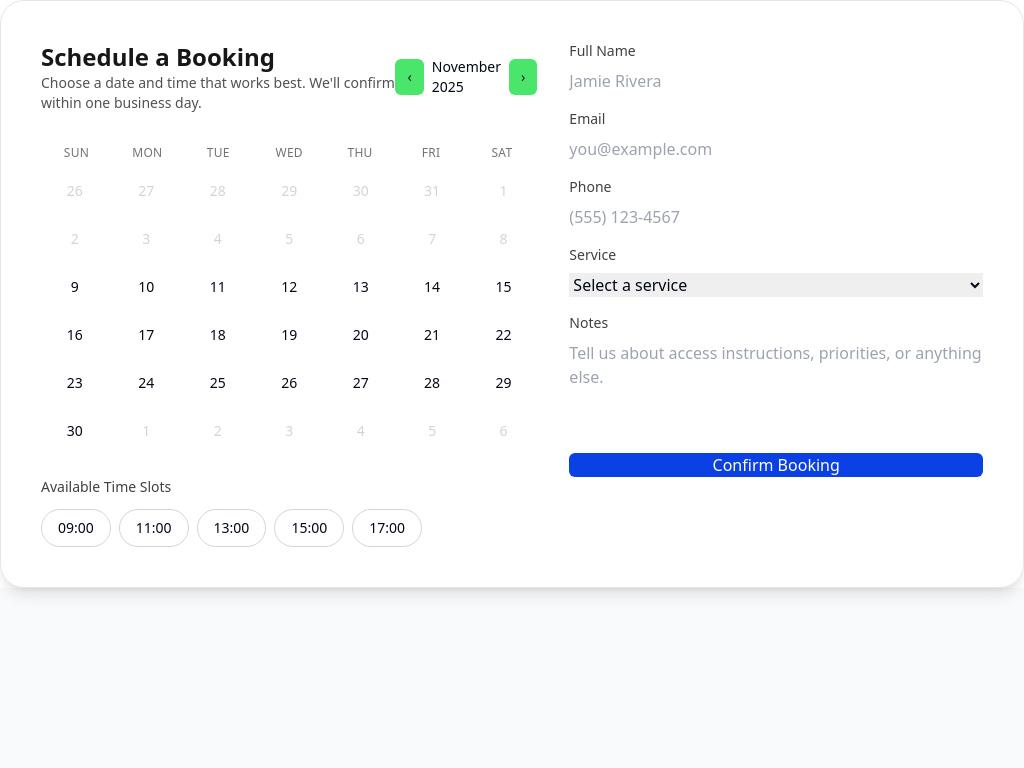
Test: BookingScheduler › submits a booking and shows confirmation
Click the button "9" at (75, 287), box [41,265,108,309]
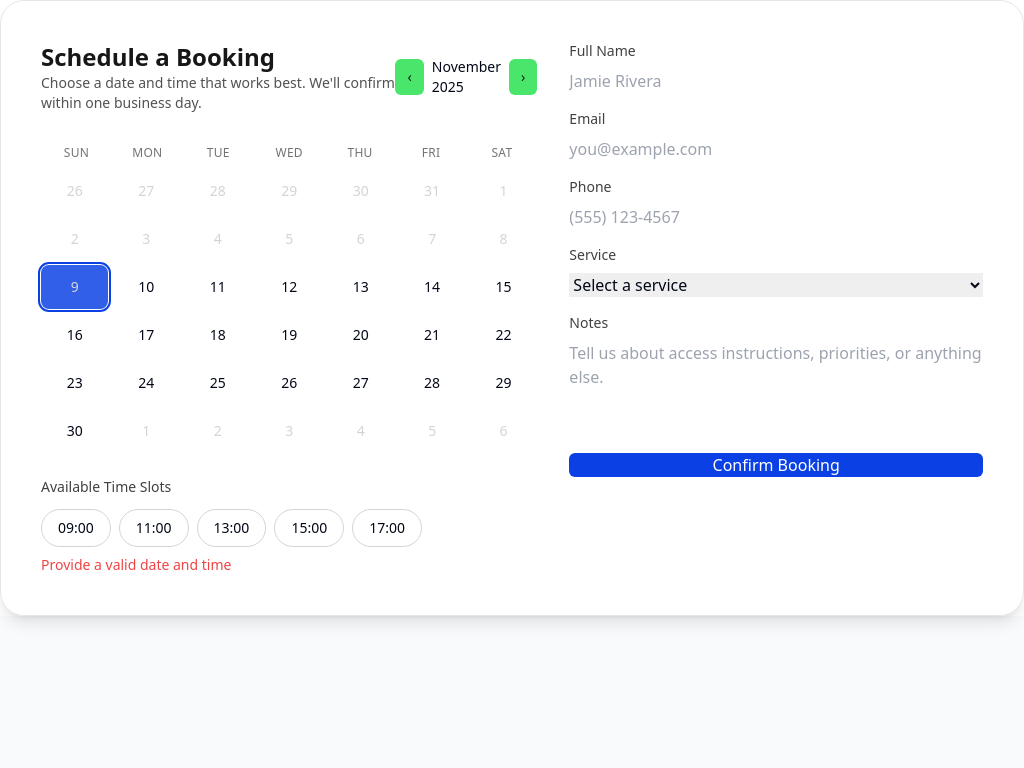
Click the button "09:00" at (76, 528), box [41,509,111,547]
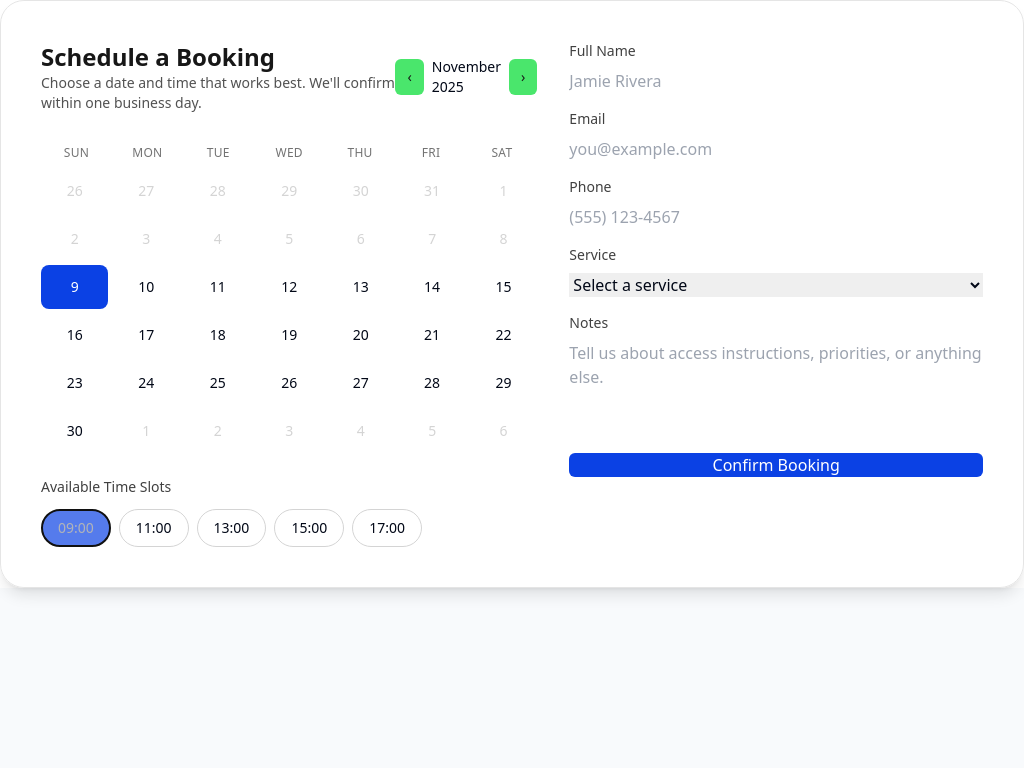
Type "Alex Doe" into the field with placeholder "Jamie Rivera" at (776, 81), box [569,69,983,93]
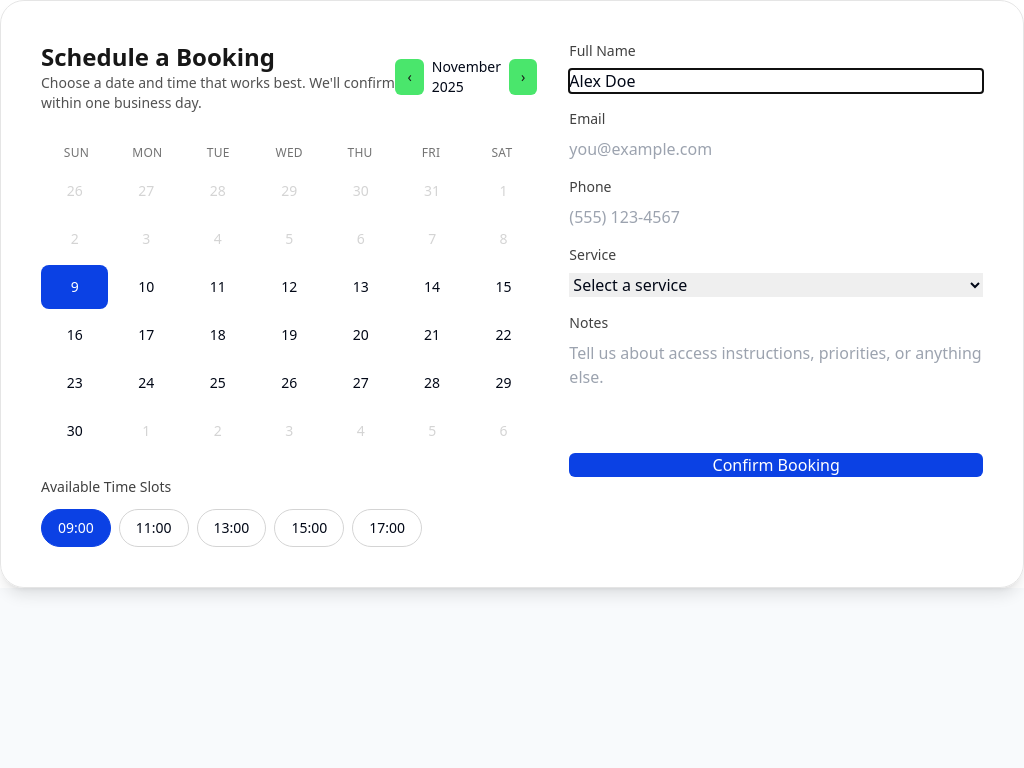
Type "alex@example.com" into the field with placeholder "you@example.com" at (776, 149), box [569,137,983,161]
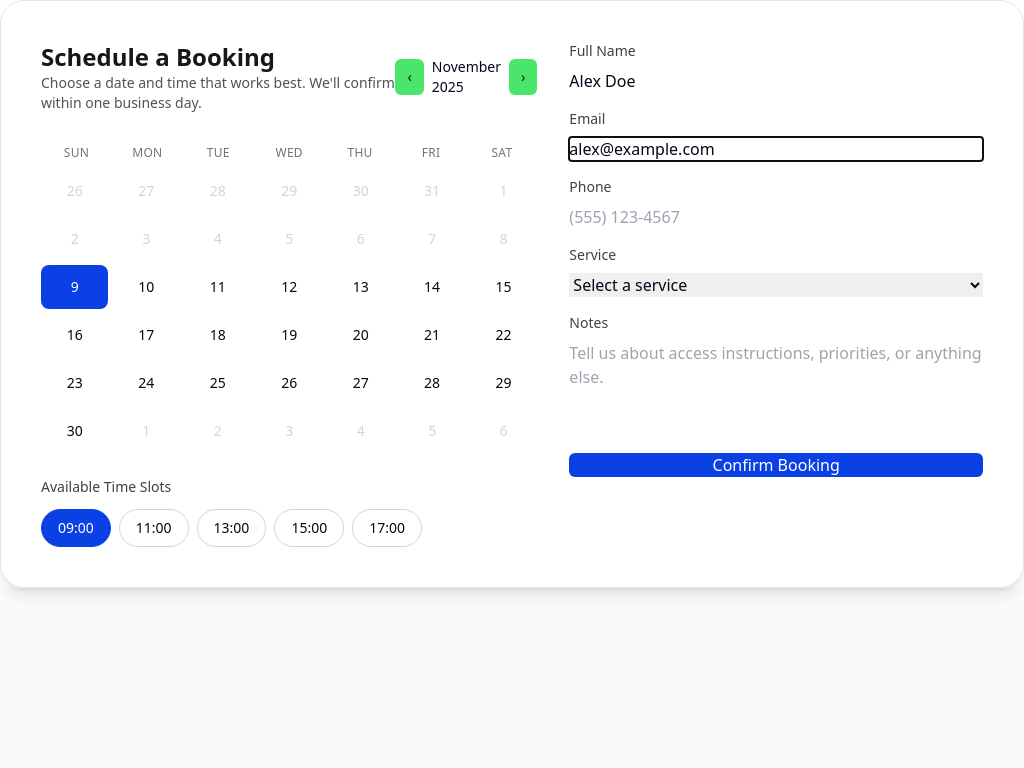
Select "Locksmithing" in the dropdown at (776, 285), box [569,273,983,297]
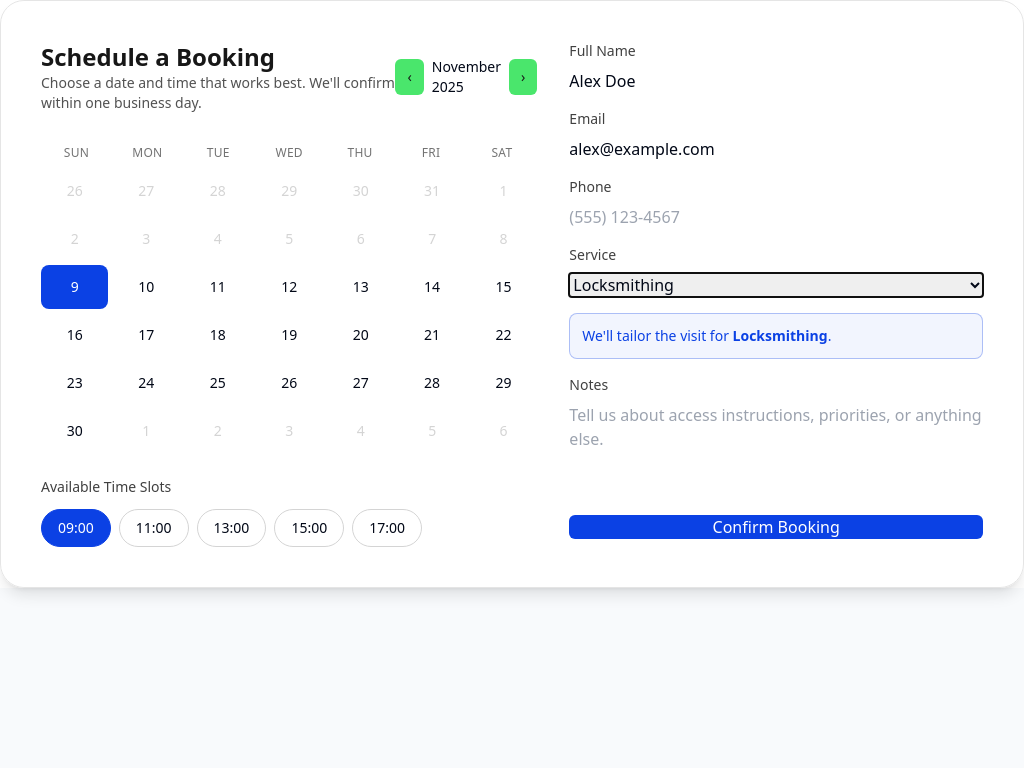
Click the button "Confirm Booking" at (776, 527), box [569,515,983,539]
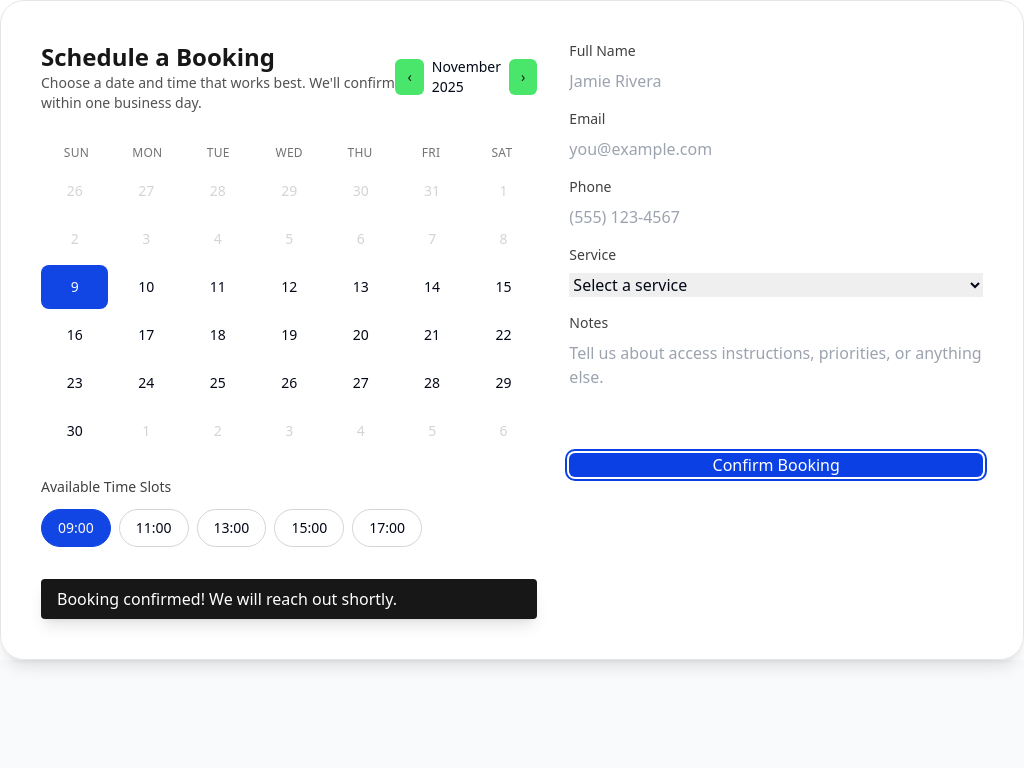
Now the text "Booking confirmed! We will reach out shortly." is shown, box [41,579,537,619]
